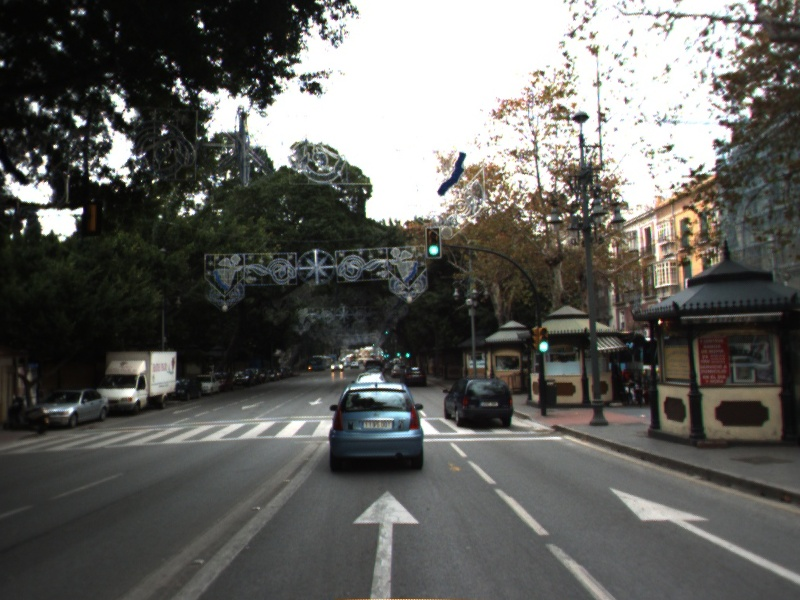STRAIGHT: (605, 483, 800, 587), (348, 485, 424, 600)
